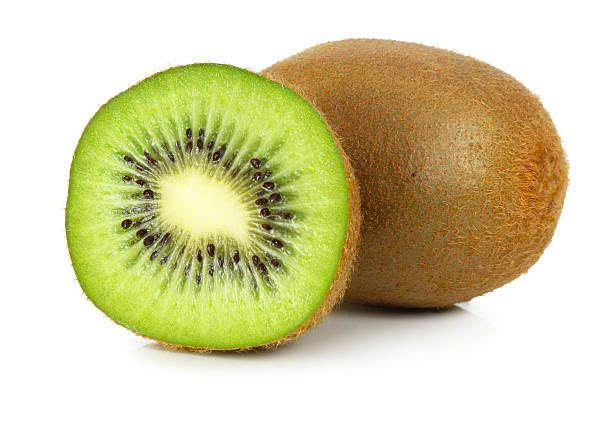kiwi: (66, 59, 355, 352), (350, 33, 577, 324)
